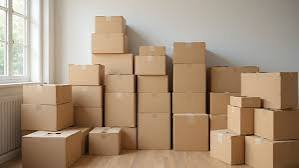box: (25, 133, 78, 165), (244, 74, 291, 107), (259, 106, 297, 136), (141, 114, 172, 149), (175, 113, 206, 146), (22, 103, 62, 127), (173, 66, 206, 93), (21, 83, 65, 103), (92, 125, 120, 156), (243, 139, 279, 163), (104, 96, 132, 126), (92, 55, 134, 74), (173, 37, 204, 62), (210, 64, 244, 86), (212, 128, 236, 159), (134, 52, 166, 75), (89, 32, 125, 51), (130, 73, 169, 90), (69, 64, 102, 84), (71, 88, 100, 106), (203, 92, 229, 112), (228, 104, 249, 128), (140, 93, 167, 110), (94, 16, 122, 32), (104, 76, 132, 91), (226, 94, 255, 106)
